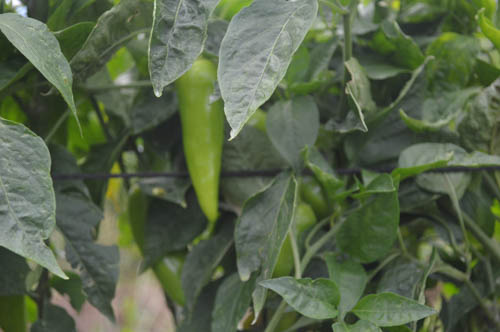ChiliPepper: (176, 60, 223, 226)
